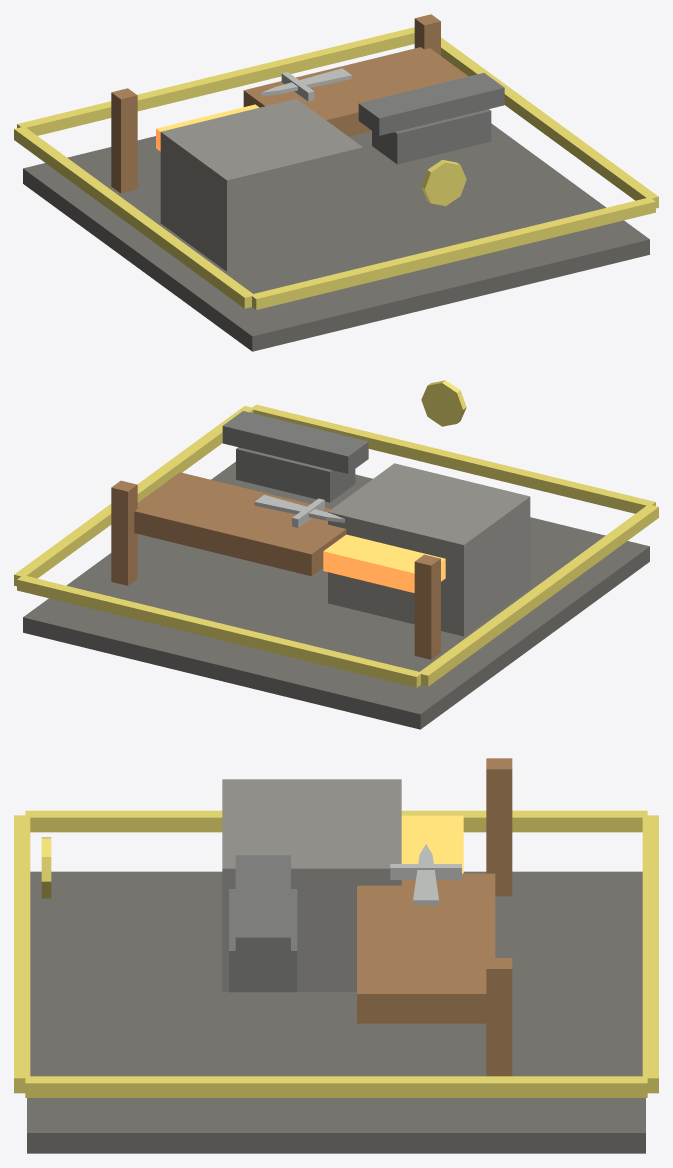
Rendered from t7_weapon_smith.glb.
3 views of the same model, one above another, from view 1: azimuth 30°, elevation 25°; view 2: azimuth 150°, elevation 25°; view 3: azimuth 270°, elevation 25° (orthographic). The views are drawn at different scales.
Parts seen in each view (by area): view 1: FootprintBase, ForgeBody, WorkTable, TierFrontTrim, TierBackTrim, AnvilTop, TierLeftTrim, TierRightTrim, AnvilBody, RackPostL, TierEmblem, RackPostR (+2 smaller); view 2: FootprintBase, ForgeBody, WorkTable, TierBackTrim, TierFrontTrim, AnvilTop, TierLeftTrim, ForgeGlow, TierRightTrim, AnvilBody, RackPostL, RackPostR (+2 smaller); view 3: FootprintBase, ForgeBody, WorkTable, TierRightTrim, TierLeftTrim, AnvilTop, TierBackTrim, TierFrontTrim, RackPostL, AnvilBody, RackPostR, ForgeGlow (+3 smaller).
Boxes of the visible parts, left/top/right/bottom form: FootprintBase: left=23, top=123, right=649, bottom=351; ForgeBody: left=160, top=98, right=362, bottom=271; WorkTable: left=243, top=47, right=468, bottom=136; TierFrontTrim: left=251, top=198, right=655, bottom=309; TierBackTrim: left=17, top=27, right=414, bottom=135; AnvilTop: left=358, top=73, right=504, bottom=135; TierLeftTrim: left=14, top=127, right=253, bottom=308; TierRightTrim: left=441, top=37, right=658, bottom=208; AnvilBody: left=372, top=109, right=491, bottom=164; RackPostL: left=111, top=88, right=137, bottom=193; TierEmblem: left=421, top=160, right=466, bottom=206; RackPostR: left=414, top=14, right=440, bottom=55; FootprintBase: left=23, top=461, right=649, bottom=729; ForgeBody: left=328, top=463, right=530, bottom=636; WorkTable: left=134, top=472, right=346, bottom=576; TierBackTrim: left=17, top=576, right=422, bottom=687; TierFrontTrim: left=251, top=404, right=655, bottom=513; AnvilTop: left=222, top=411, right=368, bottom=473; TierLeftTrim: left=420, top=505, right=658, bottom=686; ForgeGlow: left=323, top=534, right=445, bottom=592; TierRightTrim: left=14, top=406, right=254, bottom=586; AnvilBody: left=236, top=447, right=355, bottom=502; RackPostL: left=414, top=554, right=440, bottom=659; RackPostR: left=111, top=480, right=137, bottom=585; FootprintBase: left=27, top=871, right=645, bottom=1153; ForgeBody: left=222, top=779, right=401, bottom=991; WorkTable: left=357, top=873, right=495, bottom=1023; TierRightTrim: left=25, top=1076, right=647, bottom=1097; TierLeftTrim: left=25, top=810, right=647, bottom=832; AnvilTop: left=235, top=855, right=290, bottom=961; TierBackTrim: left=642, top=815, right=658, bottom=1093; TierFrontTrim: left=14, top=815, right=30, bottom=1093; RackPostL: left=486, top=758, right=512, bottom=896; AnvilBody: left=229, top=889, right=297, bottom=992; RackPostR: left=486, top=958, right=512, bottom=1076; ForgeGlow: left=401, top=815, right=463, bottom=873.
Size of the model in its own units: 3.96 by 1.25 by 3.96.
